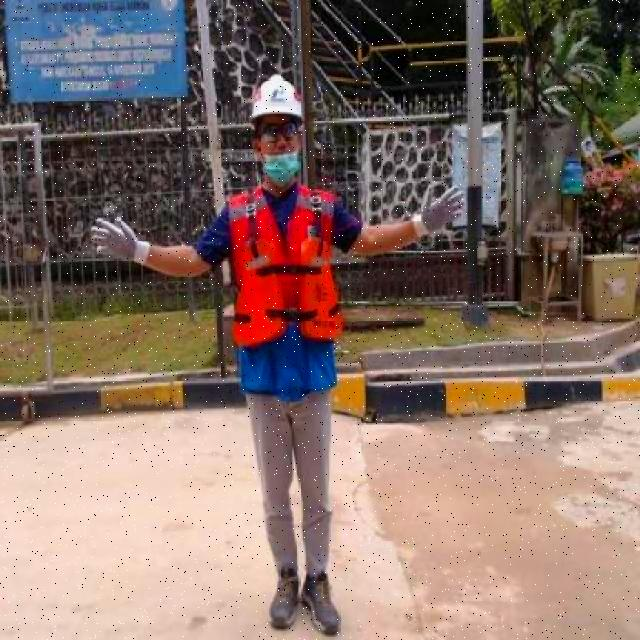Boots: (300, 568, 342, 637), (268, 564, 302, 630)
Gloves: (90, 214, 152, 271), (412, 183, 466, 242)
Helmet: (250, 73, 304, 122)
Mask: (230, 238, 346, 347)
